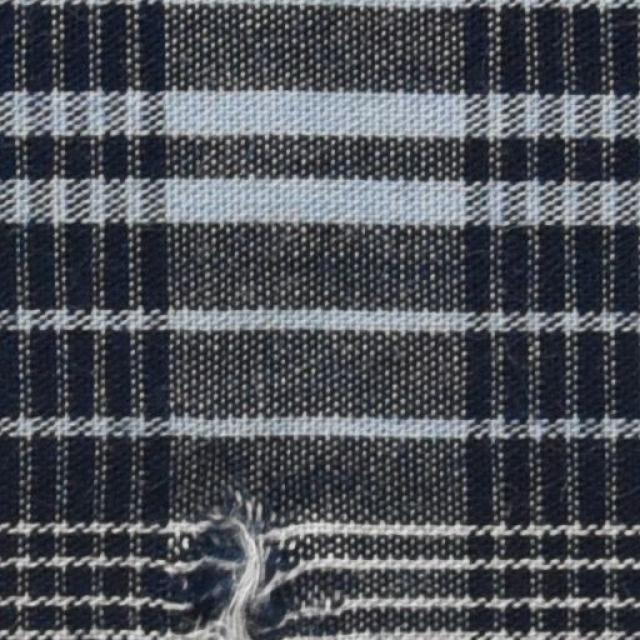Snag: (180, 492, 321, 639)
